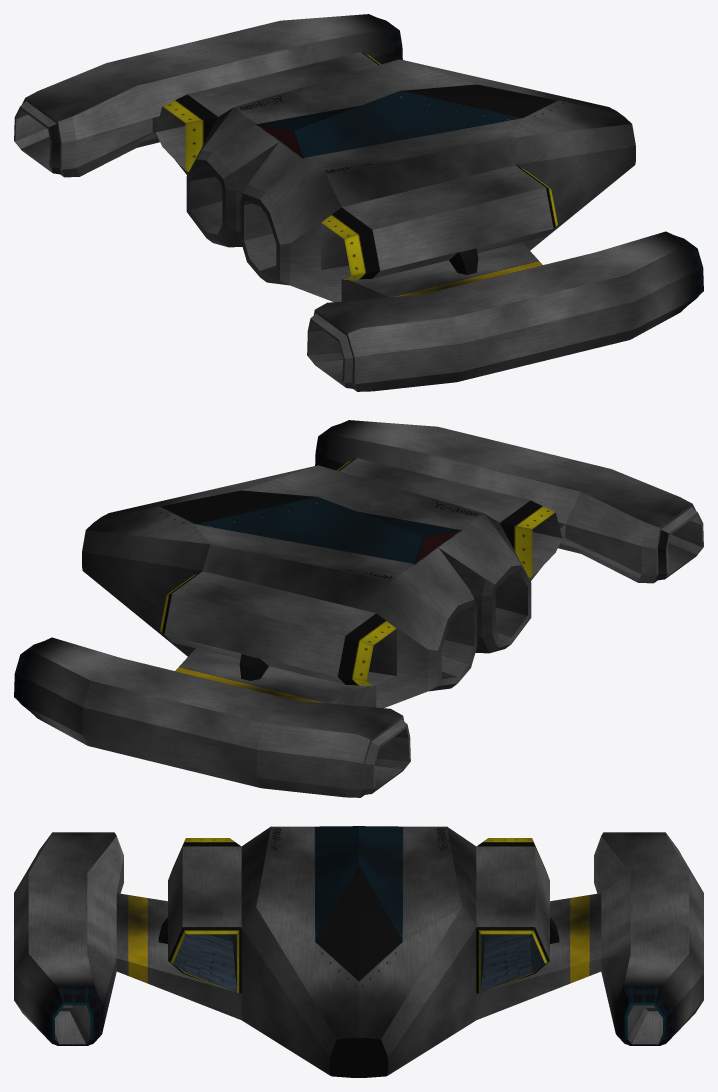
Rendered from lowpoly 3.dae.
3 views of the same model, one above another, from view 1: azimuth 30°, elevation 25°; view 2: azimuth 150°, elevation 25°; view 3: azimuth 270°, elevation 25° (orthographic). The views are drawn at different scales.
Visible parts, largest first — view 1: Cube; view 2: Cube; view 3: Cube.
Boxes of the visible parts, <box> form: Cube: <box>14,14,703,391</box>; Cube: <box>14,420,703,797</box>; Cube: <box>14,826,703,1077</box>.
Bounding box in the file's own units: 661 × 200 × 940.
1 material, 1 textured.
